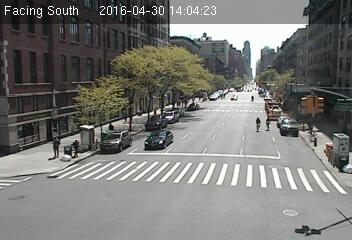neg: (280, 65, 314, 110), (22, 181, 55, 224), (187, 151, 219, 193), (288, 188, 319, 230), (97, 157, 127, 197), (91, 51, 121, 91), (145, 124, 171, 159), (47, 43, 70, 73), (163, 37, 183, 64), (252, 52, 265, 68)
pos: (45, 132, 65, 158), (69, 136, 86, 159), (248, 115, 262, 134), (265, 118, 275, 131)
